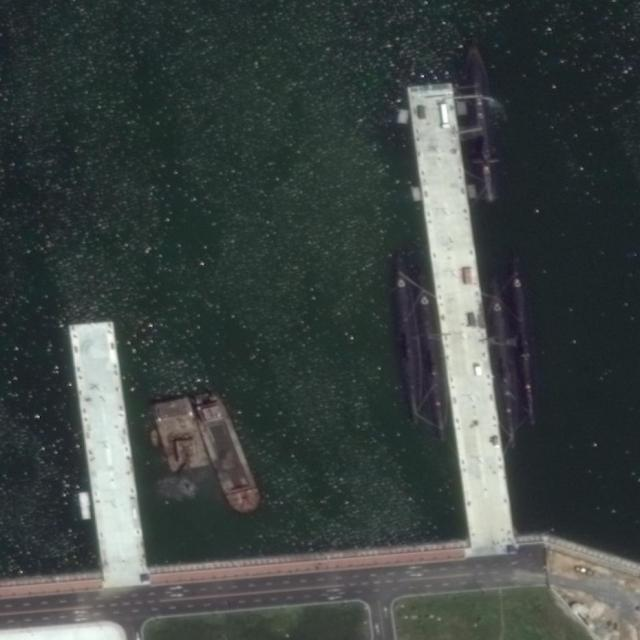Cargo: (189, 384, 263, 518)
Submarine: (406, 272, 454, 445), (480, 276, 528, 448), (457, 44, 504, 209), (383, 255, 426, 430), (502, 253, 544, 427)
